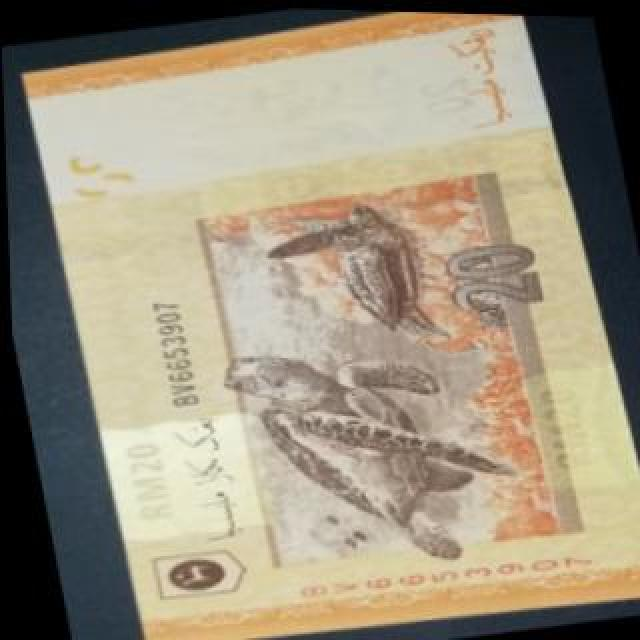20 Ringgit: (22, 0, 640, 639)
